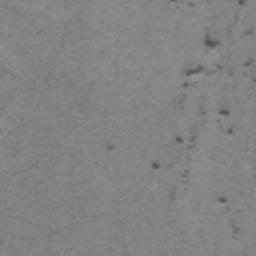Oxide scale of temperature system: (173, 94, 235, 150), (181, 31, 224, 77), (168, 169, 190, 203), (230, 218, 241, 235), (105, 142, 115, 154), (243, 57, 254, 67), (150, 160, 161, 170), (243, 28, 255, 37), (216, 196, 228, 203)
